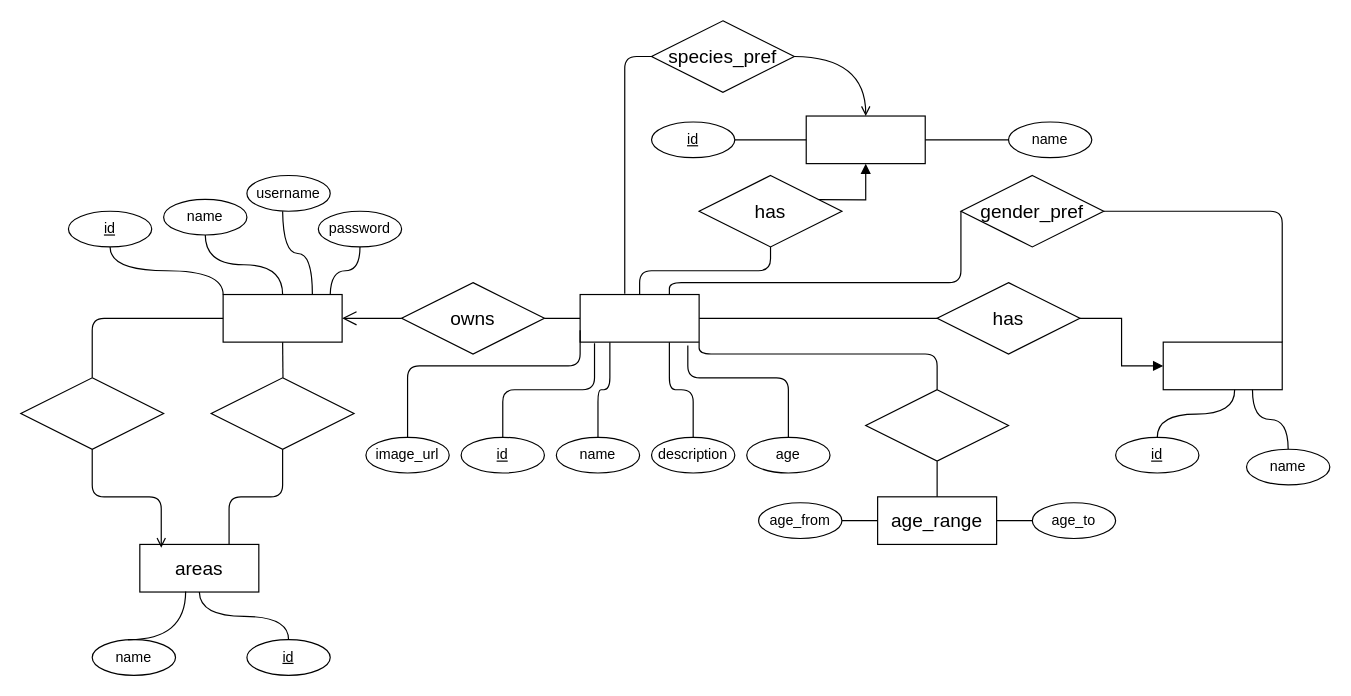
Some shapes in this 1351 by 696 pixel diagram are drawn without their labels. The shapes that lost their labels are listed below. From the top down, each one's centre as x and y in pixels, then its label:
At (x=865, y=139): "species".
At (x=282, y=317): "caretakers".
At (x=639, y=317): "pet".
At (x=1222, y=365): "gender".
At (x=92, y=413): "lives_at".
At (x=282, y=413): "area_pref".
At (x=937, y=425): "age_pref".
